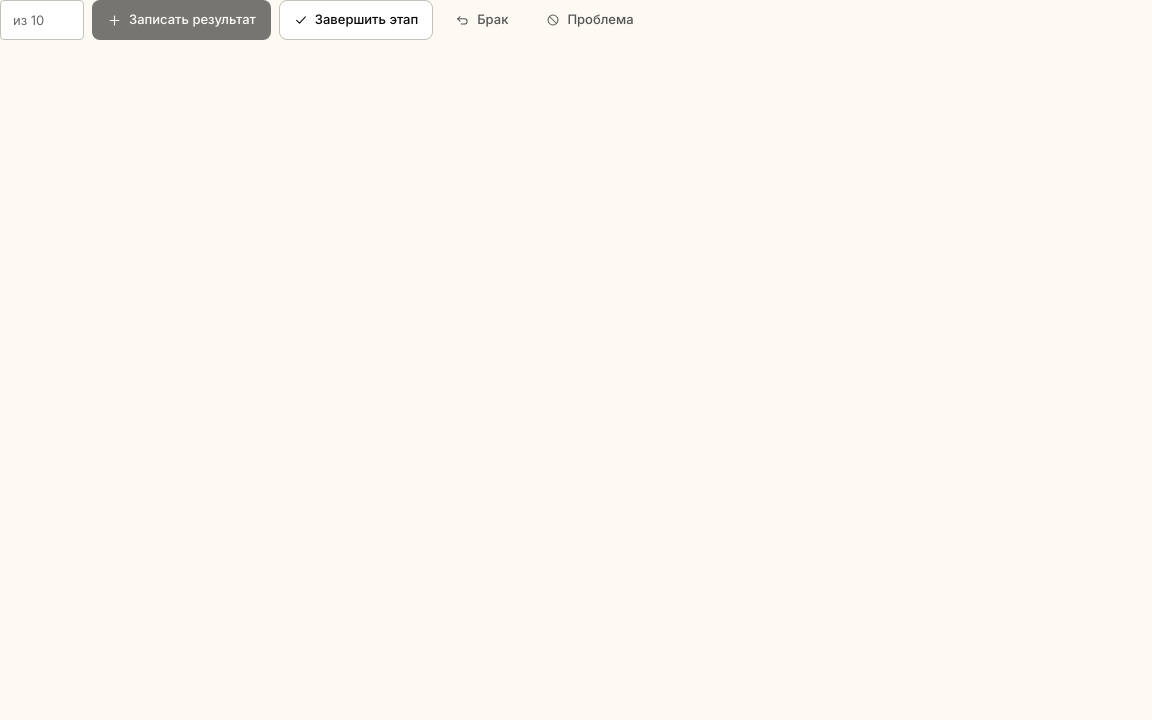
Scenario: StageActionsPanel — мастер брака › открывается боковой панелью с первым шагом
Click the button "Брак" at (482, 20), box top-left (441, 0), bottom-right (523, 40)
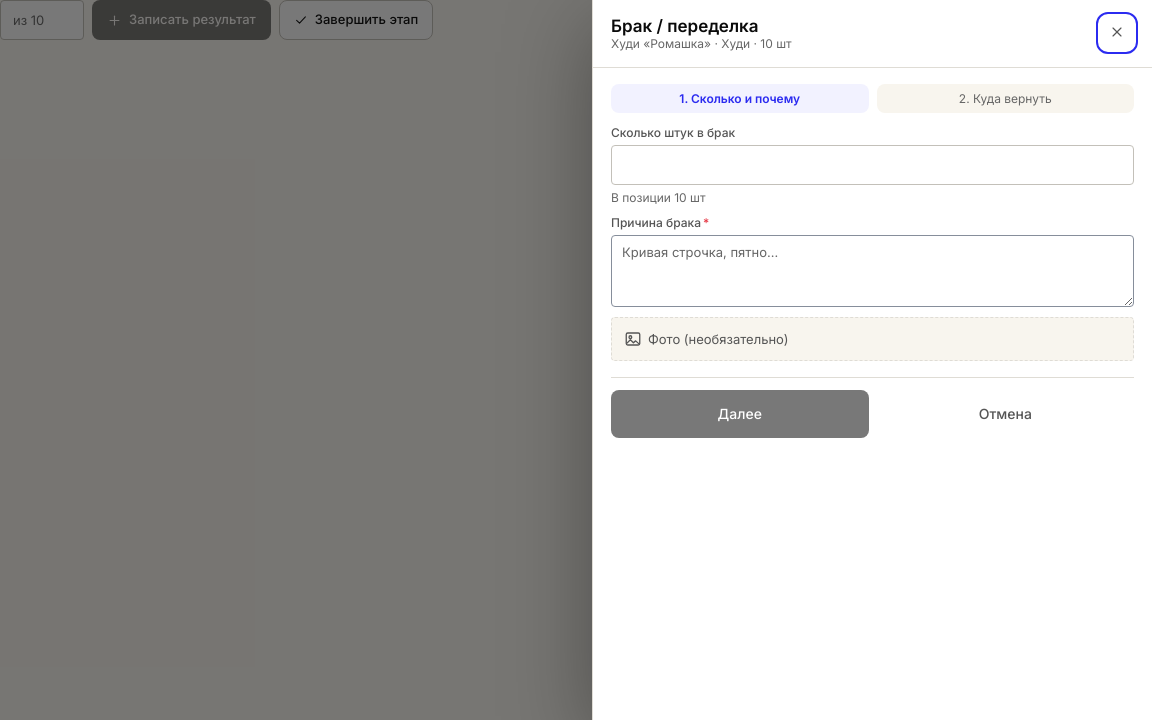
Expected: the dialog "Брак / переделка" is shown, top-left (592, 0), bottom-right (1151, 719)
Expected: the number field labelled "Сколько штук в брак" is shown, top-left (611, 145), bottom-right (1134, 185)
Expected: the text box labelled "Причина брака*" is shown, top-left (611, 235), bottom-right (1134, 307)
